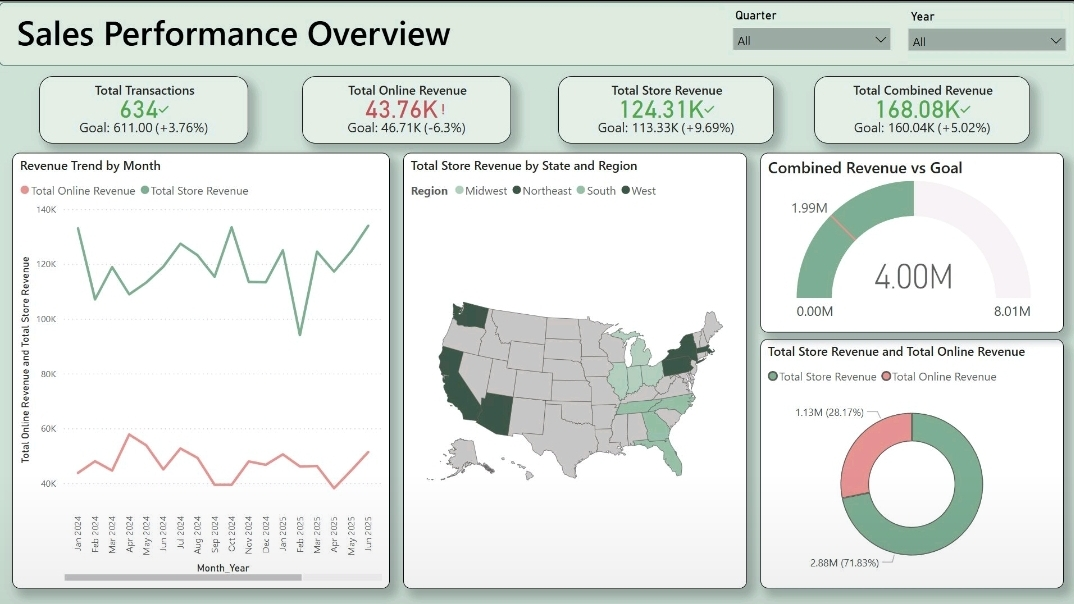

Layout of this report page (visuals, bound fields, positions):
{"tool":"powerbi","page":{"name":"Executive Overview","canvas":[1280,720],"ordinal":0},"visuals":[{"type":"shape","box":[0,0,1280,75.6],"z":0},{"type":"kpi","title":"Total Store Revenue","fields":{"Indicator":["measure.Total Store Revenue"],"TrendLine":["gold dim_date.Month_Year"],"Goal":["measure.Target Total Store Revenue"]},"box":[664,88,256,80],"z":1000},{"type":"kpi","title":"Total Online Revenue","fields":{"Indicator":["measure.Total Online Revenue"],"TrendLine":["gold dim_date.Month_Year"],"Goal":["measure.Target Total Online Revenue"]},"box":[360,88,248,80],"z":2000},{"type":"kpi","title":"Total Combined Revenue","fields":{"TrendLine":["gold dim_date.Month_Year"],"Indicator":["measure.Total Combined Revenue"],"Goal":["measure.Target Total Combined Revenue"]},"box":[968,88,256,80],"z":3000},{"type":"kpi","title":"Total Transactions","fields":{"Indicator":["measure.Total Transactions"],"TrendLine":["gold dim_date.Month_Year"],"Goal":["measure.Target Total Transactions"]},"box":[48,88,248,80],"z":4000},{"type":"lineChart","title":"Revenue Trend by Month","fields":{"Y":["measure.Total Online Revenue","measure.Total Store Revenue"],"Category":["gold dim_date.Month_Year"]},"box":[15.6,178.9,448.9,516.7],"z":5000},{"type":"donutChart","fields":{"Y":["measure.Total Store Revenue","measure.Total Online Revenue"]},"box":[904,400,360,296],"z":6000},{"type":"slicer","fields":{"Values":["gold dim_date.Year"]},"box":[1068.9,3.3,207.8,64.4],"z":7000},{"type":"slicer","fields":{"Values":["gold dim_date.Quarter"]},"box":[861.1,2.2,207.8,64.4],"z":8000},{"type":"shapeMap","fields":{"Category":["gold dim_store.Location Hierarchy.State"],"Series":["gold dim_store.Location Hierarchy.Region"],"Value":["measure.Total Store Revenue"]},"box":[480,178.9,407.8,516.7],"z":9000},{"type":"textbox","title":"Sales Performance Overview","box":[16,8,608,48],"z":10000},{"type":"gauge","title":"Combined Revenue vs Goal","fields":{"Y":["measure.Total Combined Revenue"],"TargetValue":["measure.Target Total Combined Revenue"]},"box":[904.4,178.9,360,213.3],"z":11000}]}

Visuals, with their boxes in screenshot pixels (x1, y1, x2, y2), scaled from the page's 1280x720 canvas onto the 1074x604 screenshot:
shape: [left=0, top=0, right=1073, bottom=63]
"Total Store Revenue" kpi: [left=557, top=74, right=772, bottom=141]
"Total Online Revenue" kpi: [left=302, top=74, right=510, bottom=141]
"Total Combined Revenue" kpi: [left=812, top=74, right=1027, bottom=141]
"Total Transactions" kpi: [left=40, top=74, right=248, bottom=141]
"Revenue Trend by Month" lineChart: [left=13, top=150, right=390, bottom=584]
donutChart - measure.Total Store Revenue x measure.Total Online Revenue: [left=759, top=336, right=1061, bottom=584]
slicer - gold dim_date.Year: [left=897, top=3, right=1071, bottom=57]
slicer - gold dim_date.Quarter: [left=723, top=2, right=897, bottom=56]
shapeMap - gold dim_store.Location Hierarchy.State x gold dim_store.Location Hierarchy.Region: [left=403, top=150, right=745, bottom=584]
"Sales Performance Overview" textbox: [left=13, top=7, right=524, bottom=47]
"Combined Revenue vs Goal" gauge: [left=759, top=150, right=1061, bottom=329]
